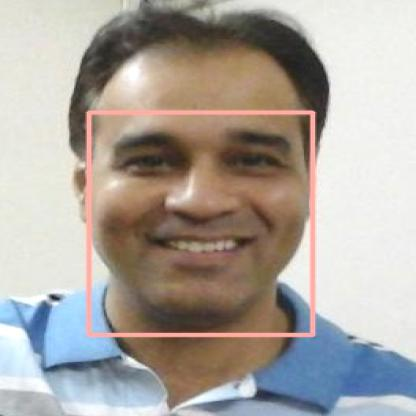without_mask: (88, 112, 312, 334)
